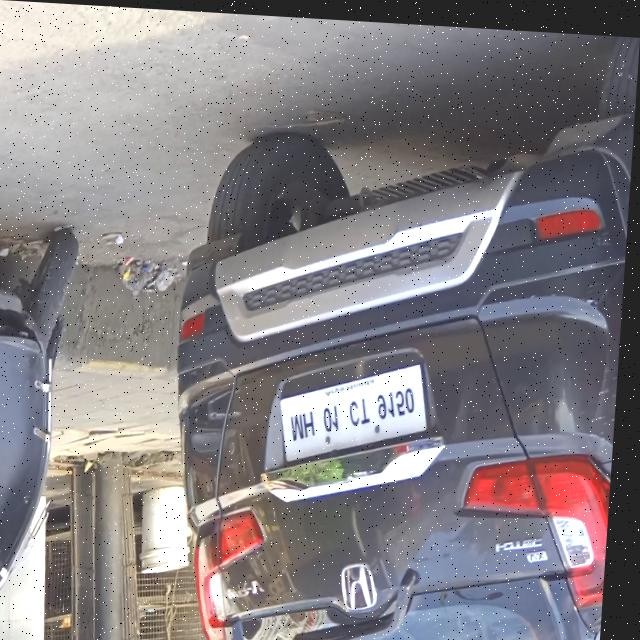plate: (284, 335, 439, 469)
